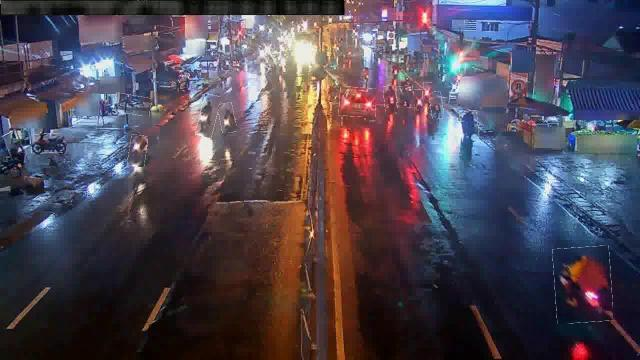Bike: (554, 246, 612, 323), (198, 94, 218, 138), (115, 94, 152, 116), (32, 134, 66, 154), (460, 111, 480, 143), (128, 135, 148, 167), (218, 103, 236, 133), (396, 86, 414, 108), (429, 92, 443, 120), (384, 86, 396, 114), (414, 90, 426, 112), (423, 82, 432, 100)
Car: (339, 87, 376, 117)
